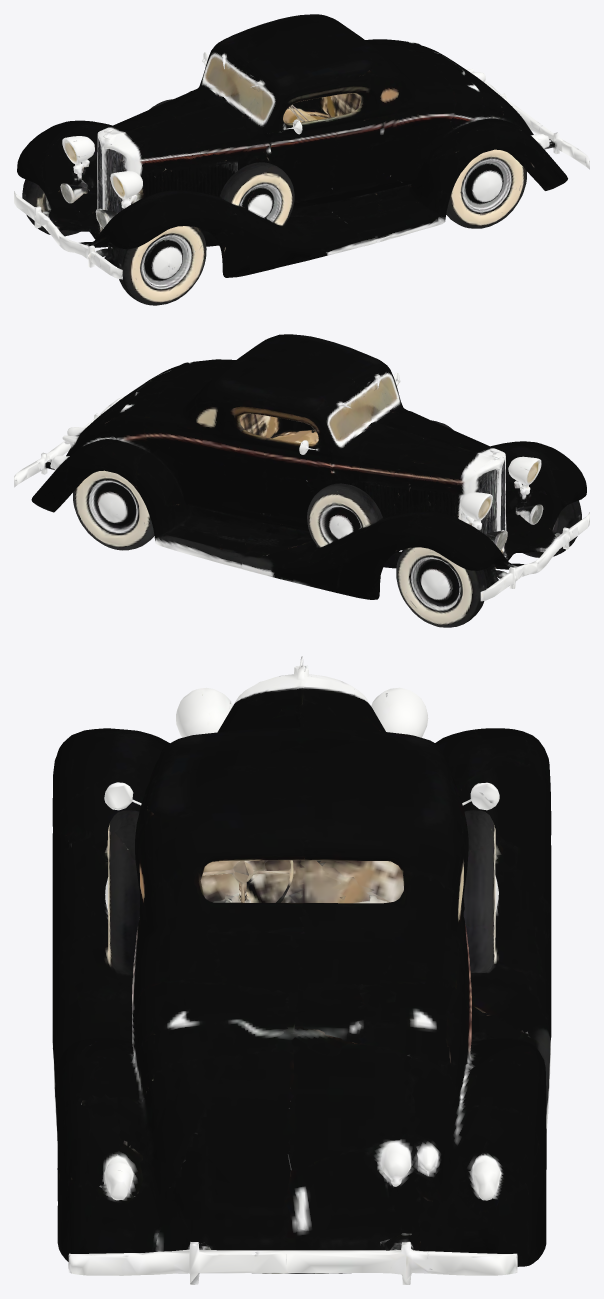
Rendered from mobil-klasik-hq.glb.
3 views of the same model, one above another, from view 1: azimuth 30°, elevation 25°; view 2: azimuth 150°, elevation 25°; view 3: azimuth 270°, elevation 25° (orthographic). The views are drawn at different scales.
Size of the model in its own units: 1.9 by 0.6882 by 0.8655.
Materials: 1 (1 with a texture image).
